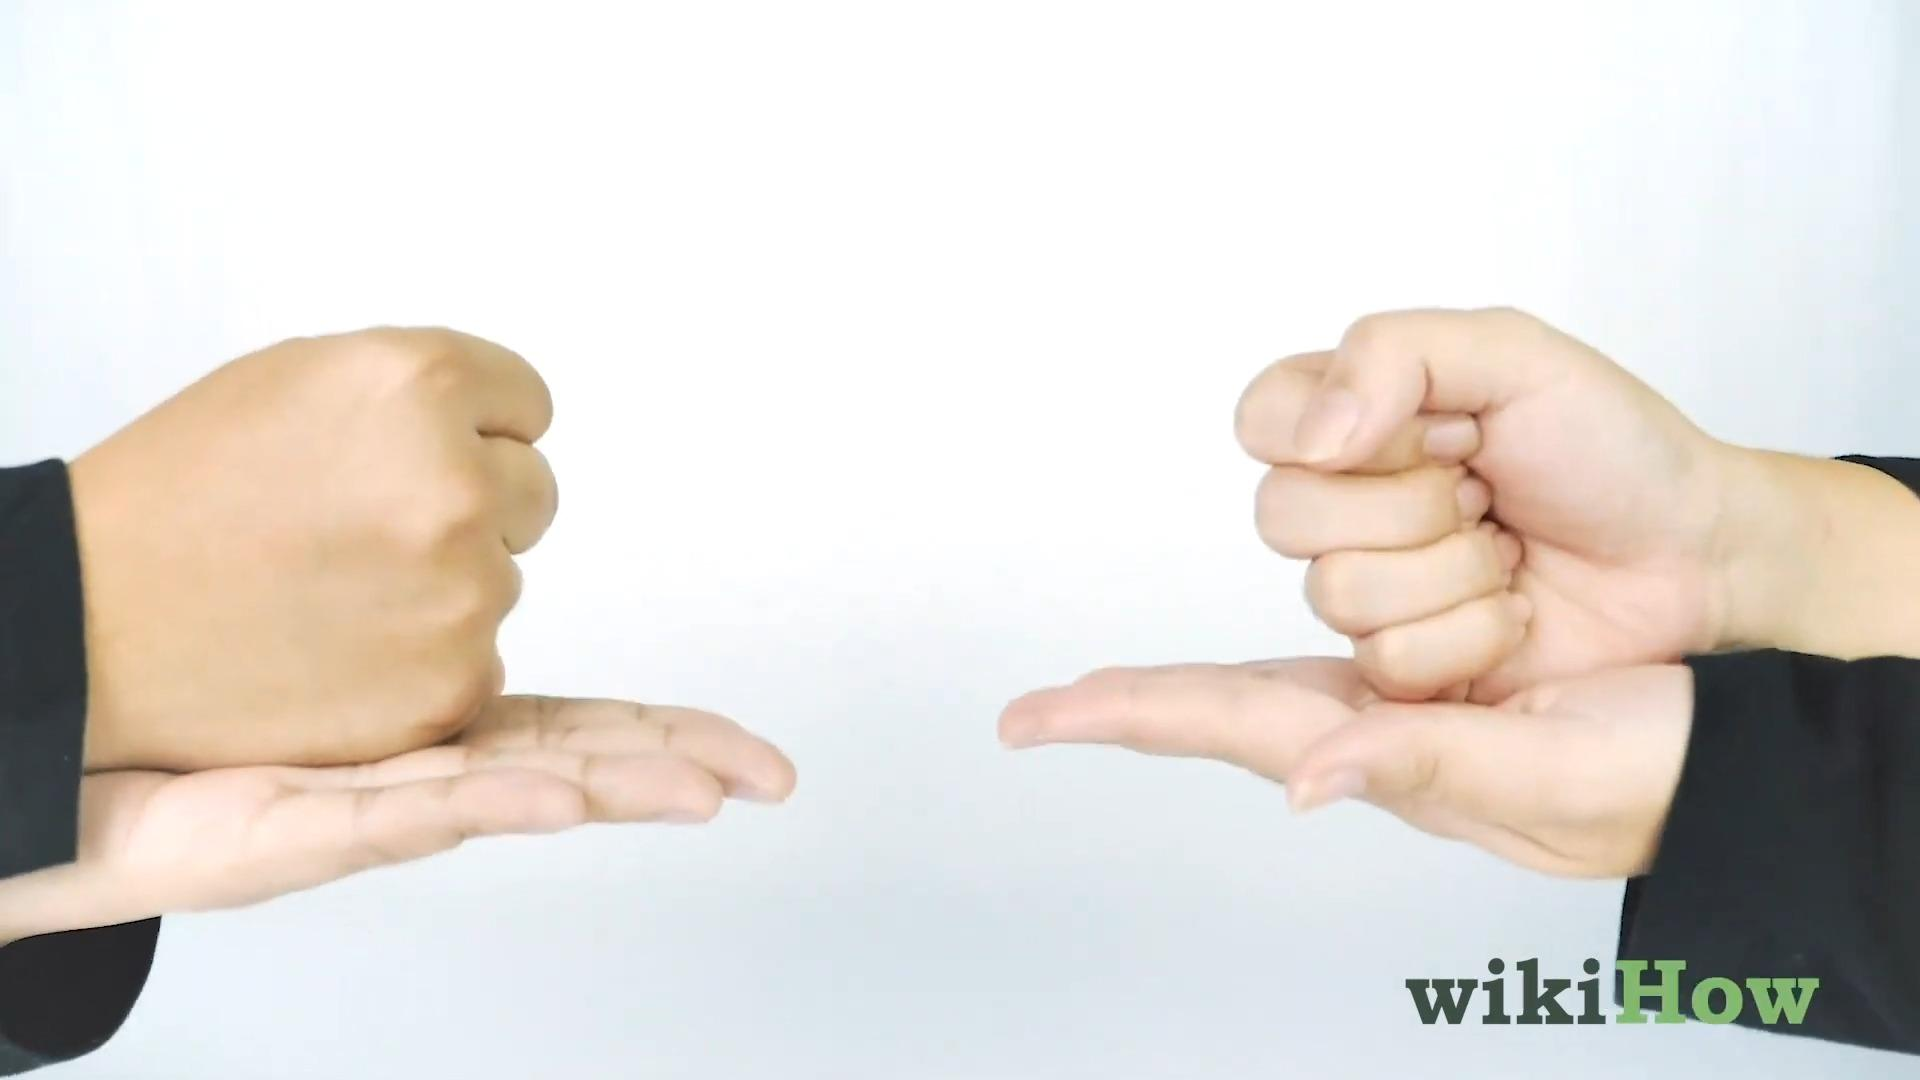Rock: (67, 318, 555, 752), (1240, 299, 1733, 699)
